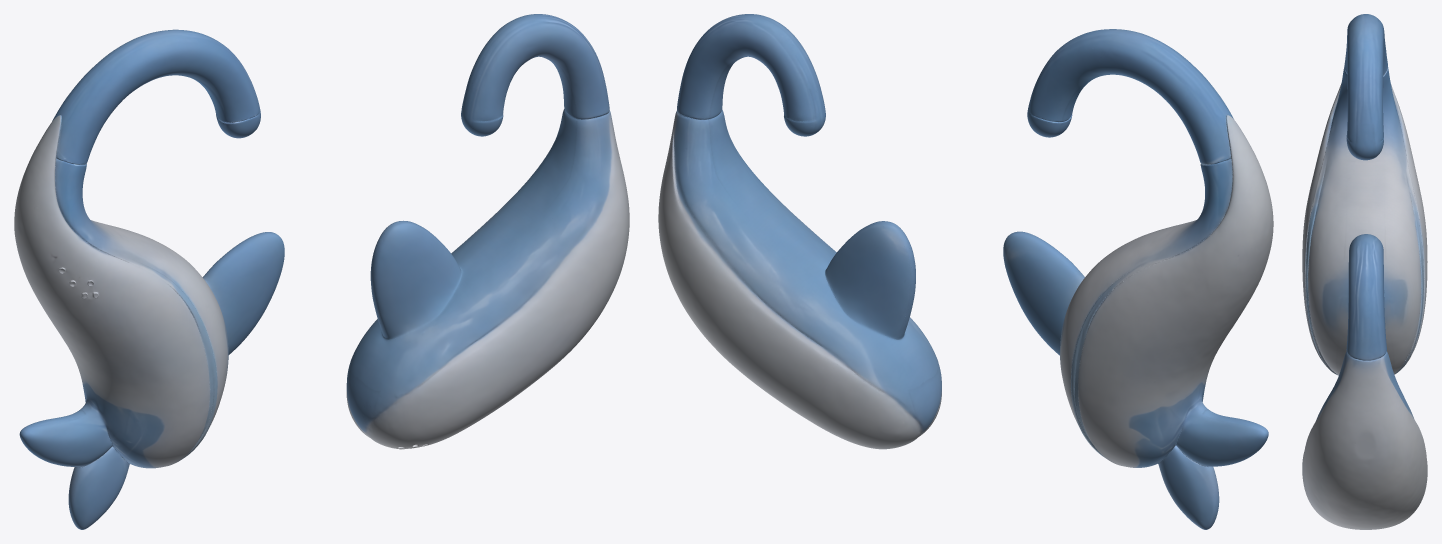
File: 문수인_202602001_DP_01반_10주차실습.glb
3 views of the same model, side by side, from view 1: azimuth 30°, elevation 25°; view 2: azimuth 150°, elevation 25°; view 3: azimuth 270°, elevation 25° (orthographic). The views are drawn at different scales.
Parts seen in each view (by area): view 1: vizcom_node_0; view 2: vizcom_node_0; view 3: vizcom_node_0.
Part boxes in pixels (box(x1,y1,x2,y2)): vizcom_node_0: box(14, 14, 629, 529); vizcom_node_0: box(658, 14, 1273, 529); vizcom_node_0: box(1302, 14, 1427, 529).
Size of the model in its own units: 1.89 by 1.44 by 0.4089.
Materials: 1 (1 with a texture image).
